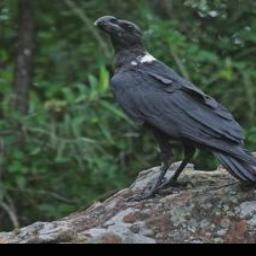Crow: (90, 12, 256, 202)
